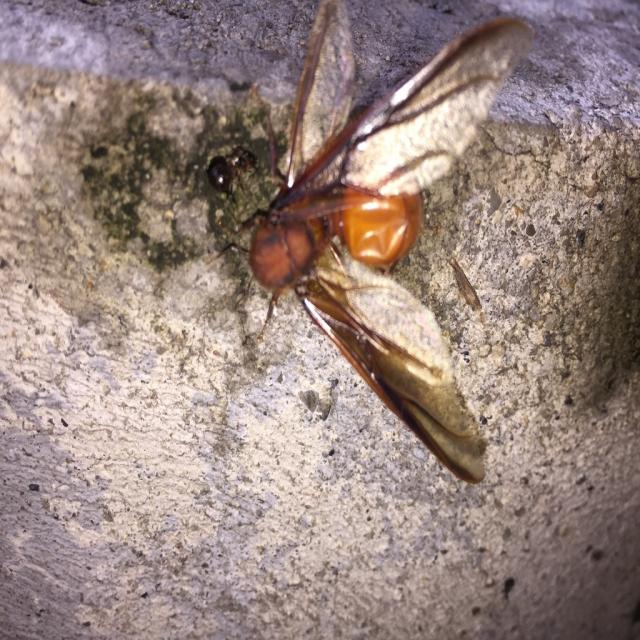Alive-Male-Alate: (202, 0, 534, 484)
